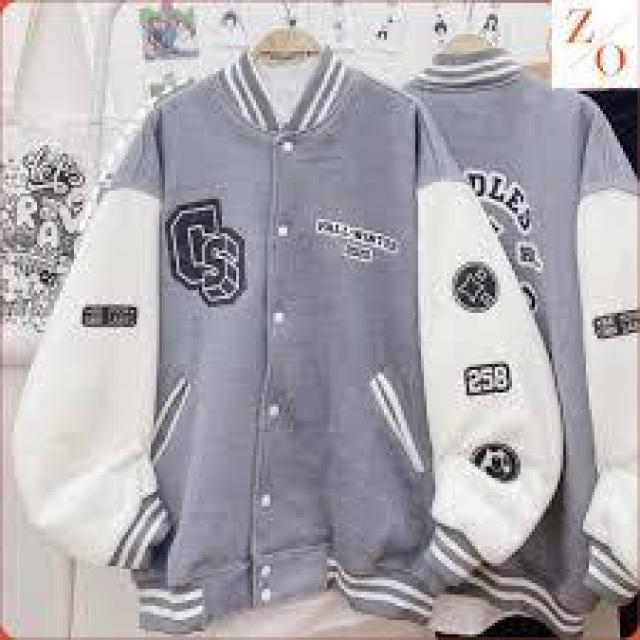sweater: (8, 51, 540, 620)
